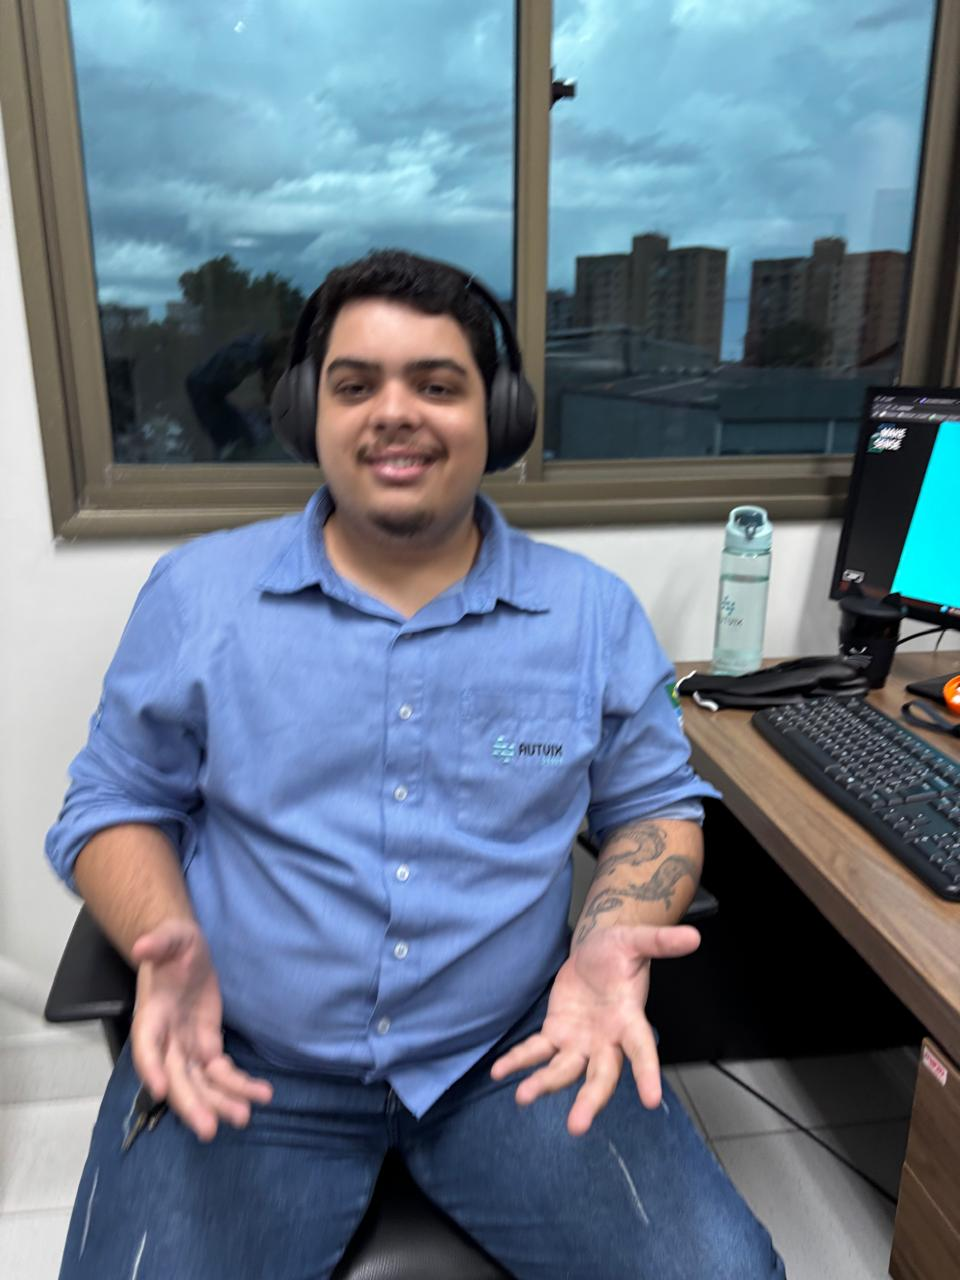no-gloves: (483, 925, 705, 1133), (122, 925, 276, 1144)
